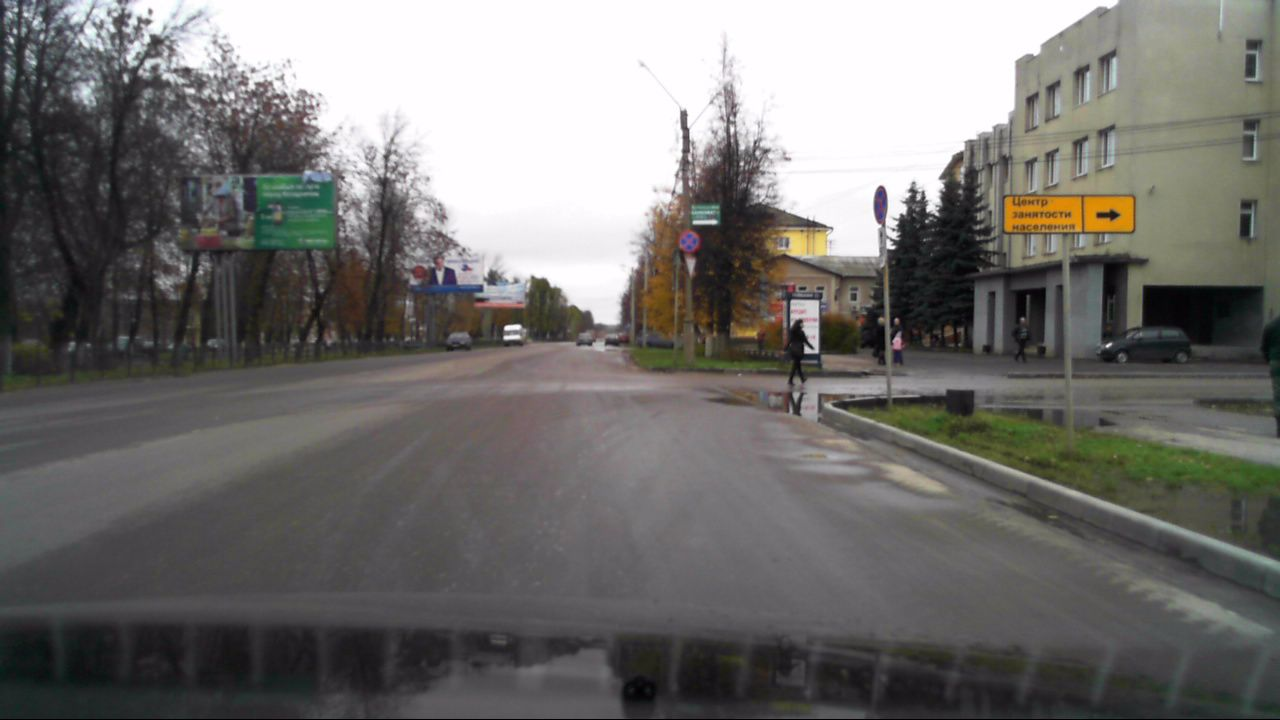No Parking: (677, 230, 700, 253)
